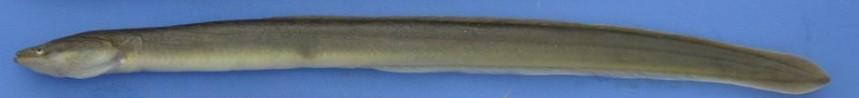Long-Snouted Pipefish: (0, 0, 834, 98)
